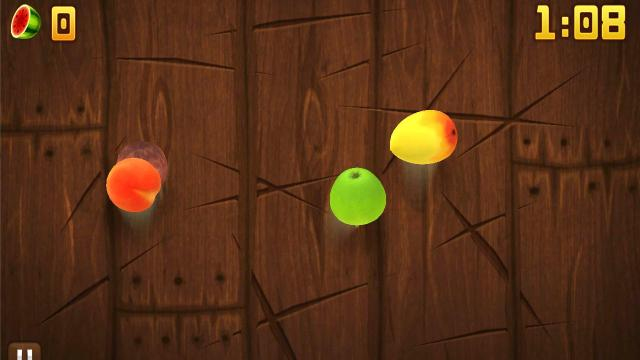fruit: (388, 109, 458, 164), (329, 168, 386, 227), (106, 157, 162, 213), (114, 137, 170, 189)
ignore: (9, 3, 43, 41)
